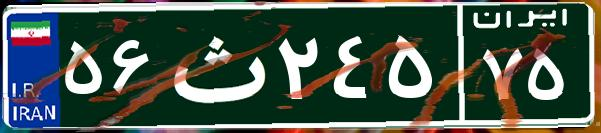2: (273, 28, 330, 110)
4: (330, 28, 385, 110)
5: (385, 28, 445, 110), (57, 26, 110, 107), (525, 38, 570, 115)
6: (110, 28, 158, 105)
7: (475, 38, 525, 113)
ث: (158, 15, 273, 115)
